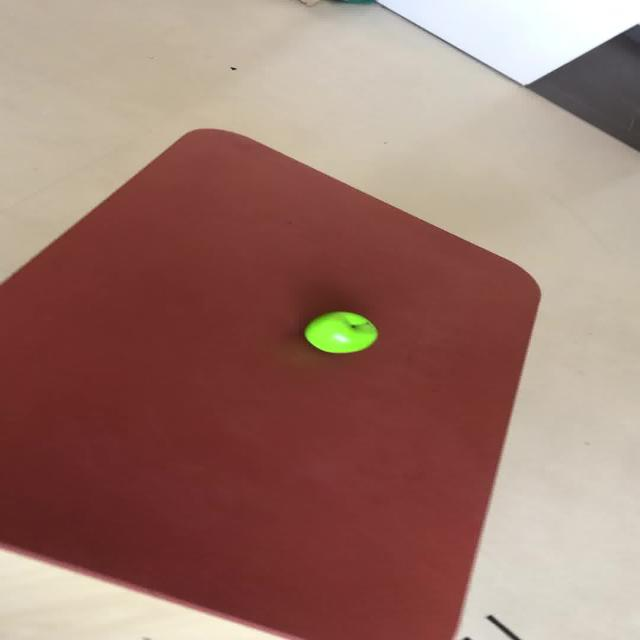apple: (302, 310, 378, 354)
